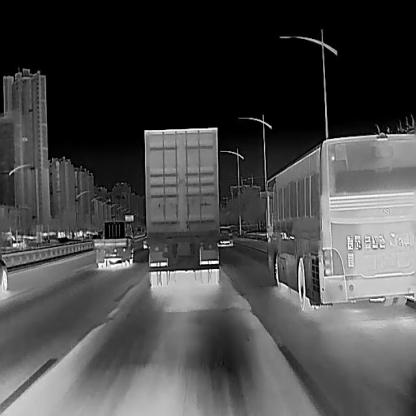bus: (260, 132, 416, 312)
car: (93, 221, 133, 268), (216, 224, 232, 246), (0, 256, 8, 295)
truck: (144, 126, 219, 288)
